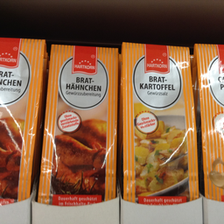spices: (35, 41, 118, 206), (120, 40, 198, 205), (1, 37, 43, 203)
